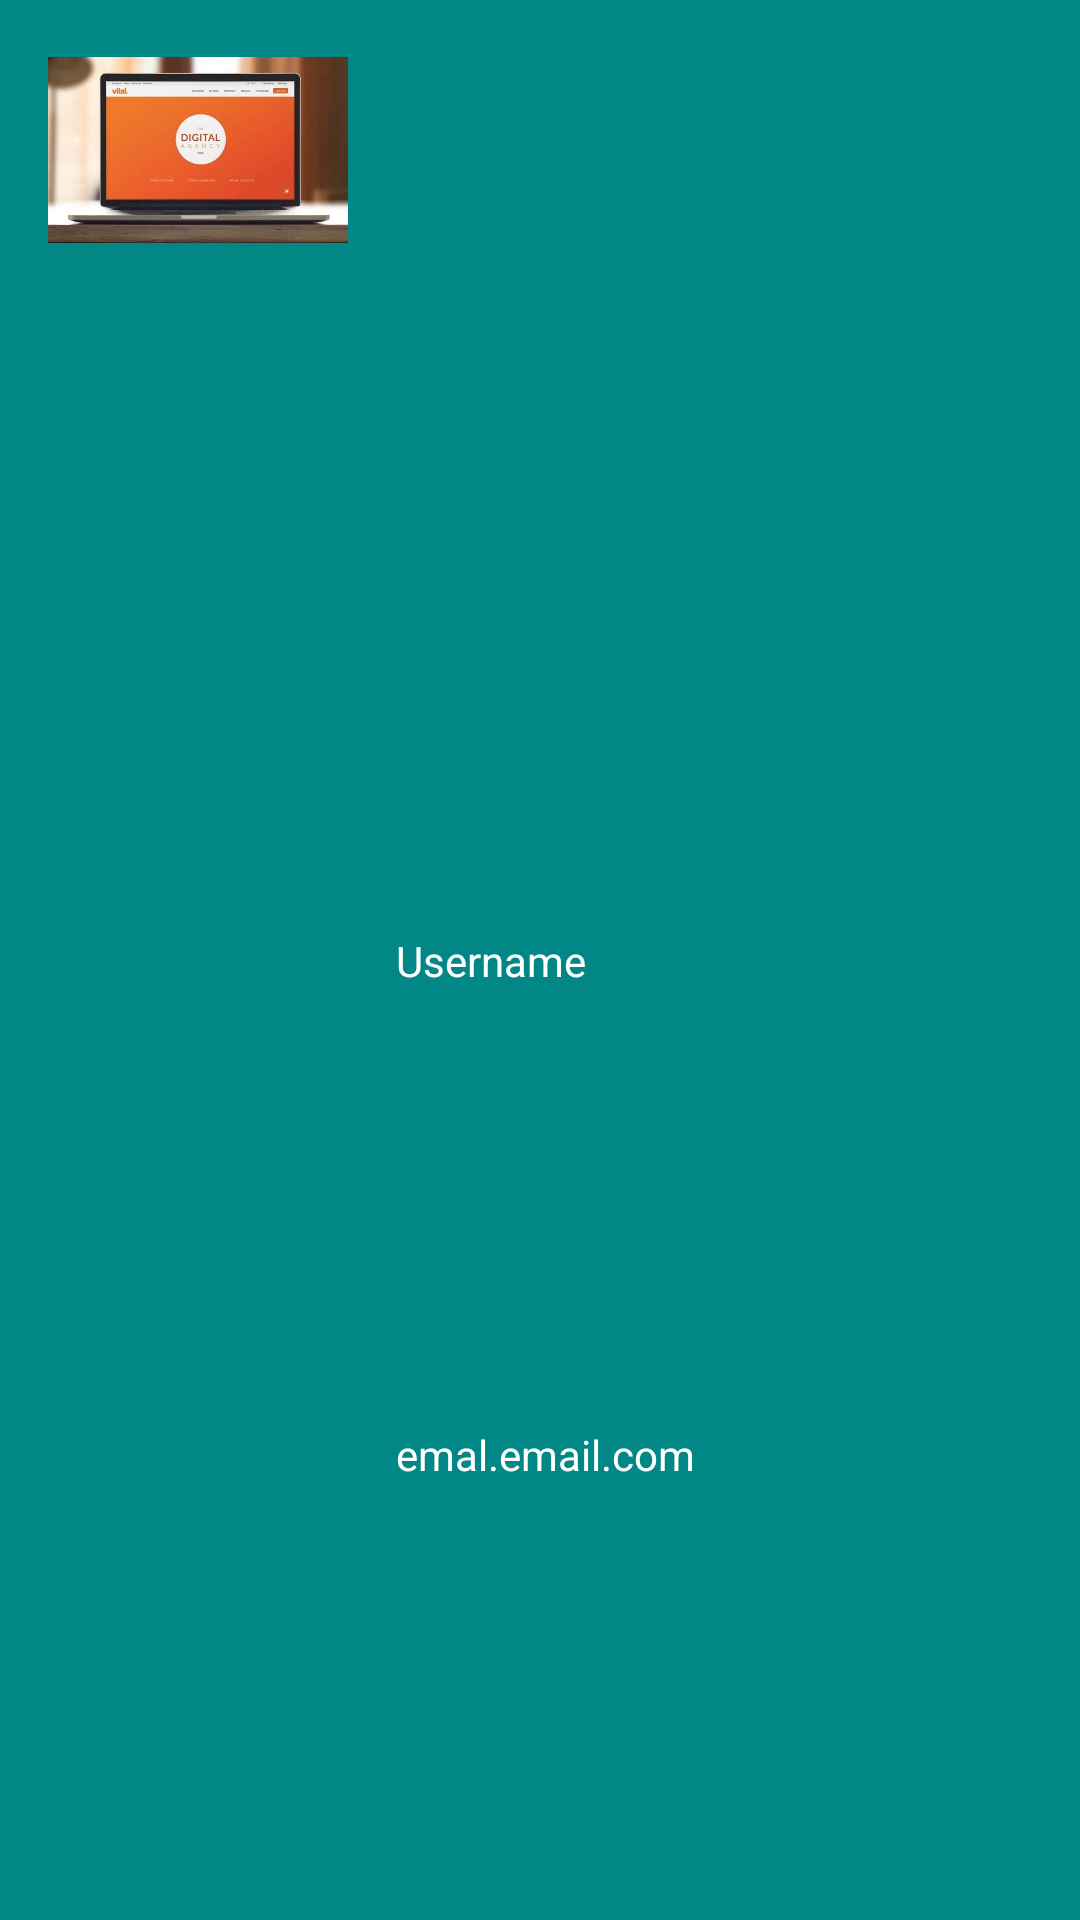

Where icons sit on this 1080×1920 app screen, as (left=x1, top=y1, right=x2, bottom=y2):
imae: (left=48, top=57, right=348, bottom=243)
